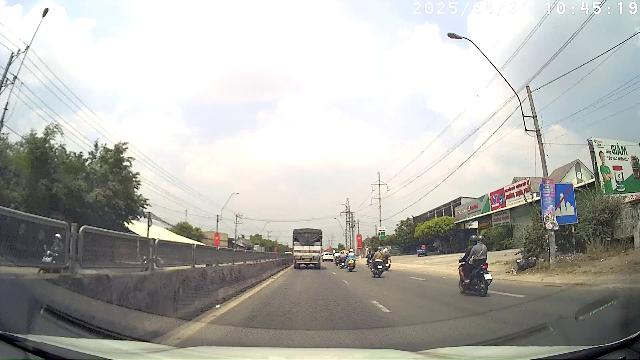421-ket-thuc-khu-dong-dan-cu: (554, 184, 576, 222)
